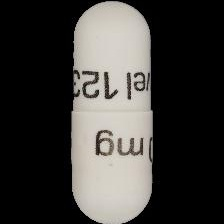0440-8476: (0, 0, 224, 224)
